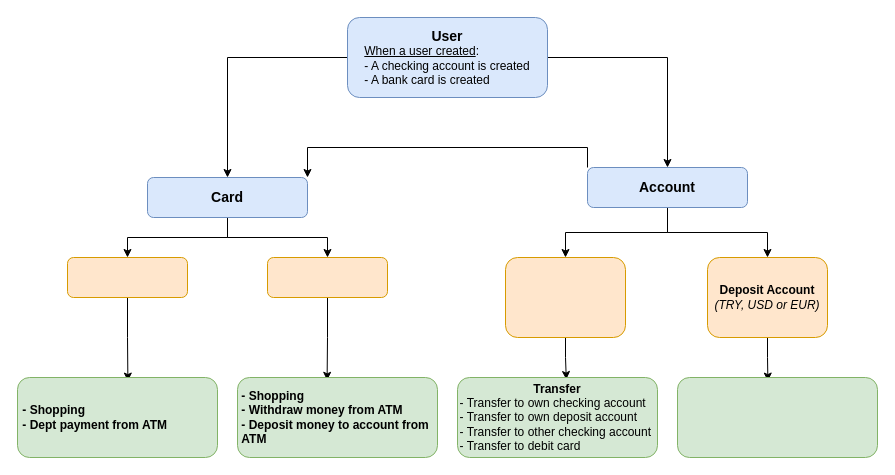
The diagram is 895 pixels wide and 475 high, and some of its shapes have lost their labels. Each missing label, with the box of its shape:
Bank Card: (266, 256, 388, 298)
Checking Account (TRY, USD or EUR): (504, 256, 626, 338)
Debit card: (66, 256, 188, 298)
Transfer - Transfer to own checking account: (676, 376, 878, 458)
